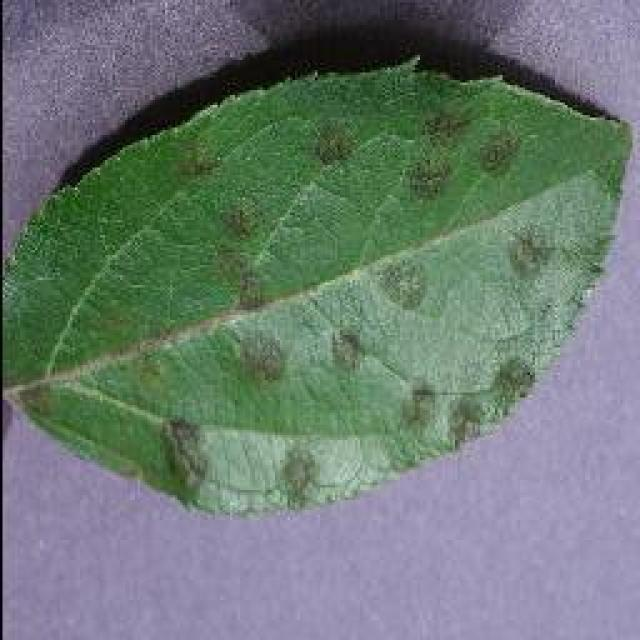apple scab disease: (2, 50, 632, 520)
